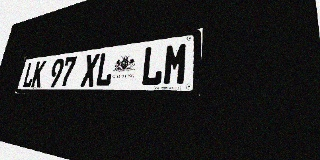7: (59, 56, 77, 87)
9: (48, 58, 65, 87)
K: (31, 60, 46, 87)
L: (140, 45, 165, 86), (95, 51, 116, 87), (22, 61, 37, 88)
M: (162, 42, 189, 86)
X: (80, 53, 100, 87)
